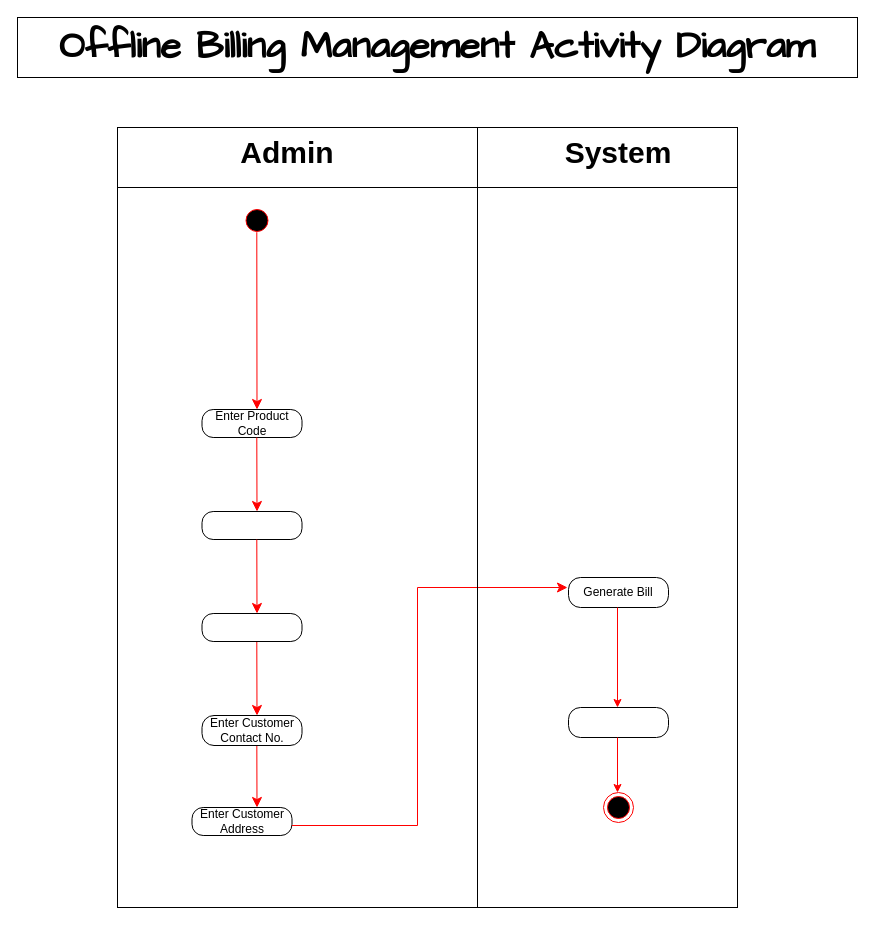
The diagram is 875 pixels wide and 926 high, and some of its shapes have lost their labels. The centre of each missing label's shape, as x and y in pixels:
"Enter Customer Name" belongs at point 251,627.
"Enter Product Quantity" belongs at point 251,525.
"Update Database" belongs at point 618,722.
